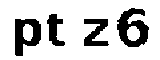6: (115, 6, 153, 52)
p: (12, 16, 42, 59)
t: (46, 12, 66, 49)
z: (78, 17, 111, 50)
